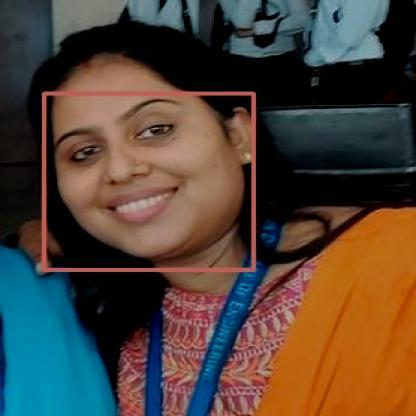without_mask: (43, 93, 253, 269)
